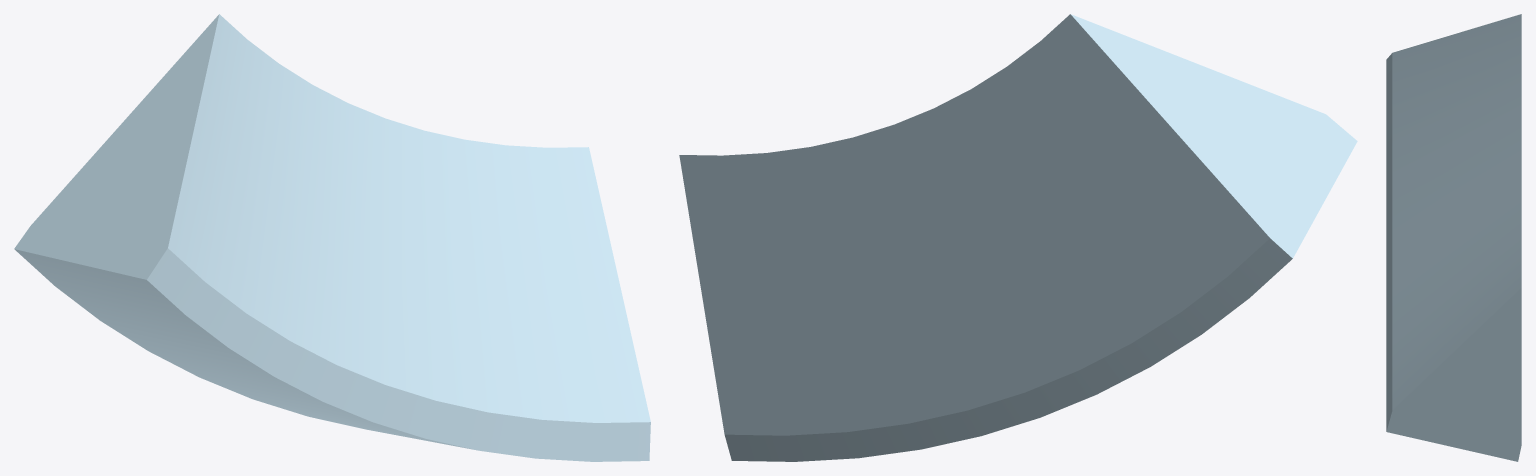
The model's file is Sub_8_Cell_3_2.gltf.
The picture shows the model from 3 angles, left to right: view 1: azimuth 30°, elevation 25°; view 2: azimuth 150°, elevation 25°; view 3: azimuth 270°, elevation 25°; orthographic projection. The views are drawn at different scales.
Visible parts, largest first — view 1: Sub_8_Cell_3_2; view 2: Sub_8_Cell_3_2; view 3: Sub_8_Cell_3_2.
Part boxes in pixels (<box>): Sub_8_Cell_3_2: <box>14,14,650,461</box>; Sub_8_Cell_3_2: <box>679,14,1357,461</box>; Sub_8_Cell_3_2: <box>1386,14,1521,461</box>.
Bounding box in the file's own units: 0.1211 × 0.1008 × 0.0362.
